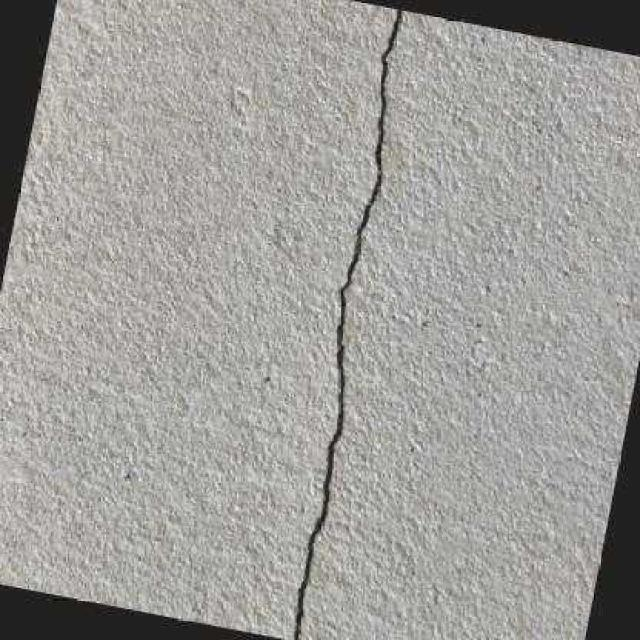D00: (293, 9, 404, 640)
